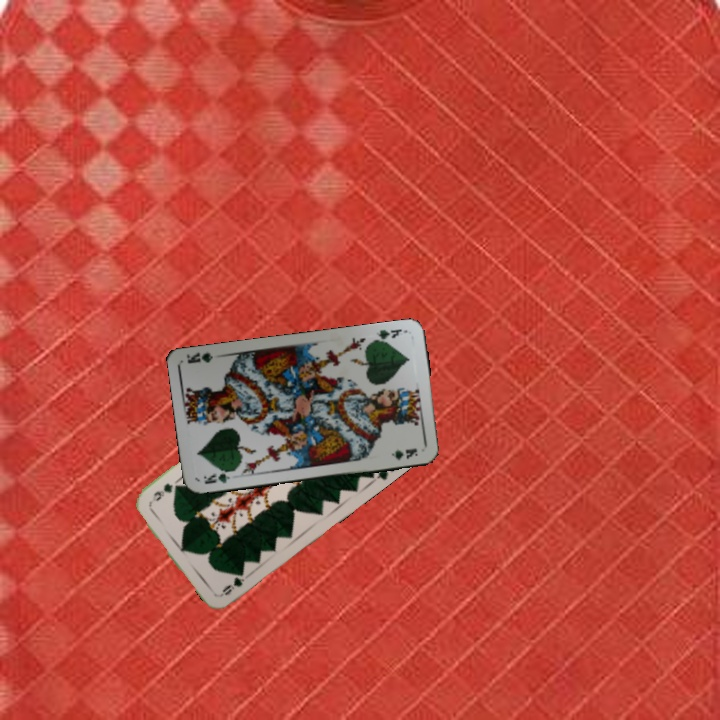G9: (217, 567, 247, 599)
GK: (200, 466, 237, 487), (369, 325, 404, 345)
